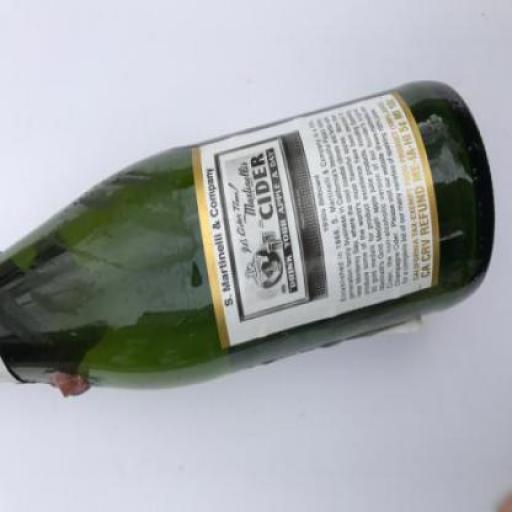glass: (0, 78, 495, 388)
